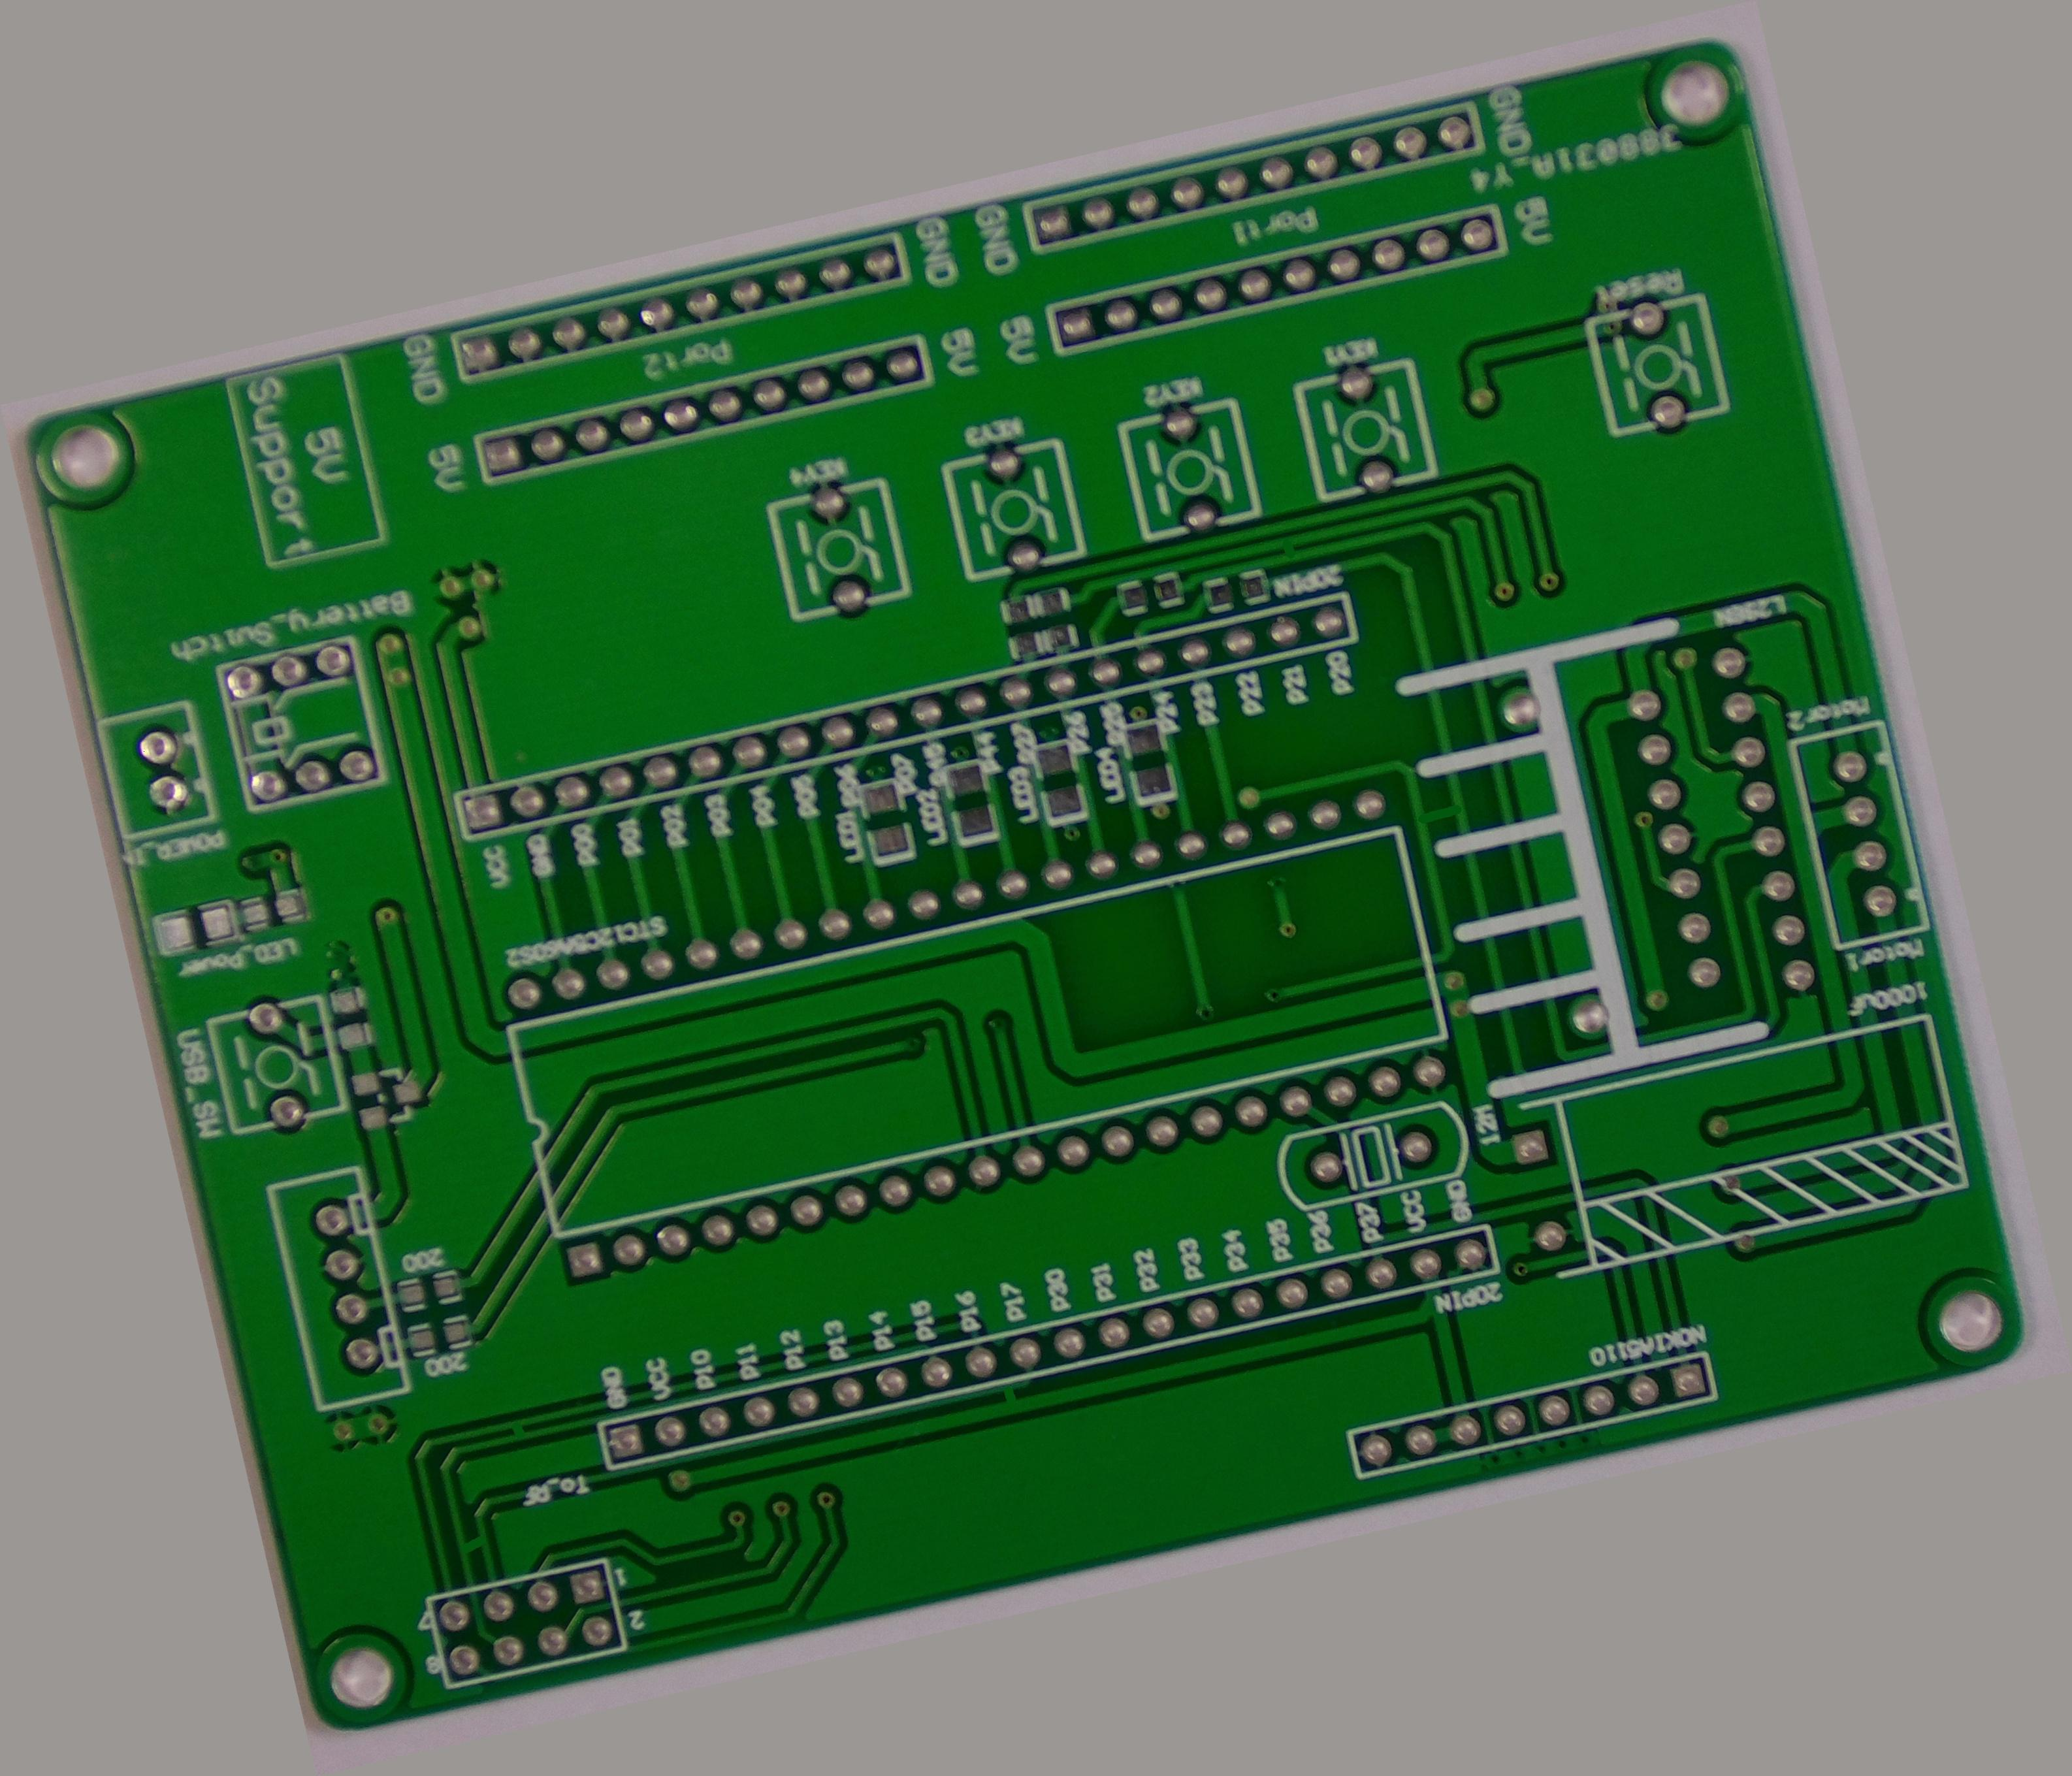short: (1406, 782, 1476, 851), (442, 1519, 499, 1570), (1265, 529, 1314, 573), (495, 1408, 541, 1452)
